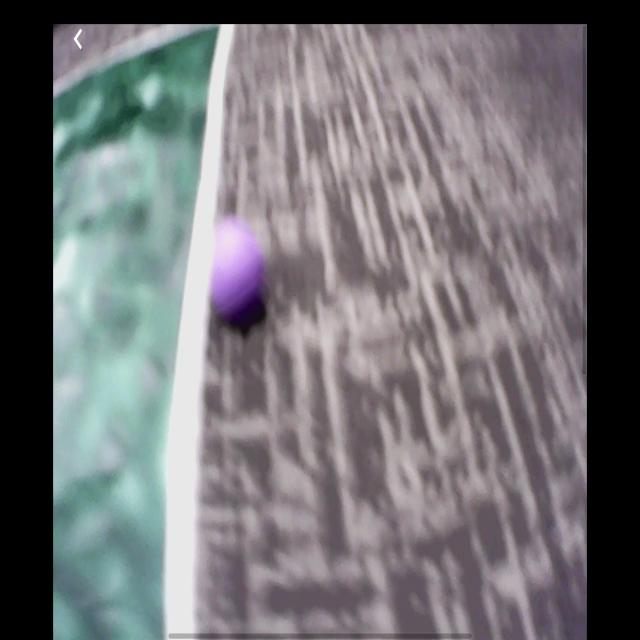ball: (209, 215, 268, 336)
